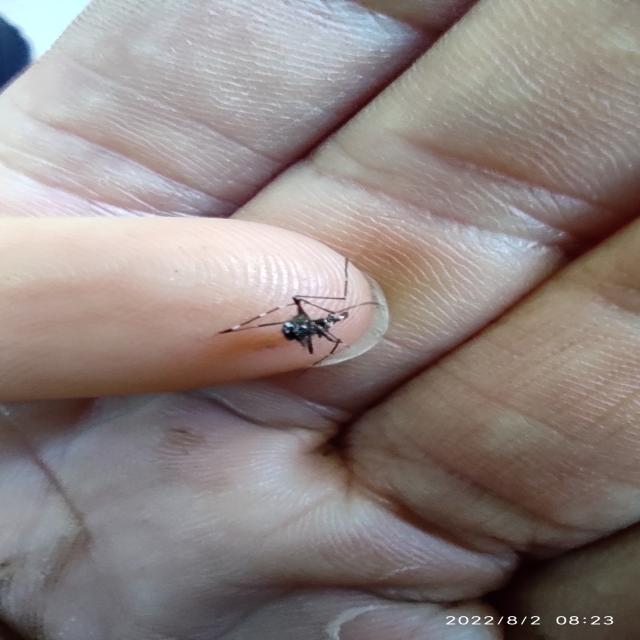albopictus: (214, 266, 389, 362)
